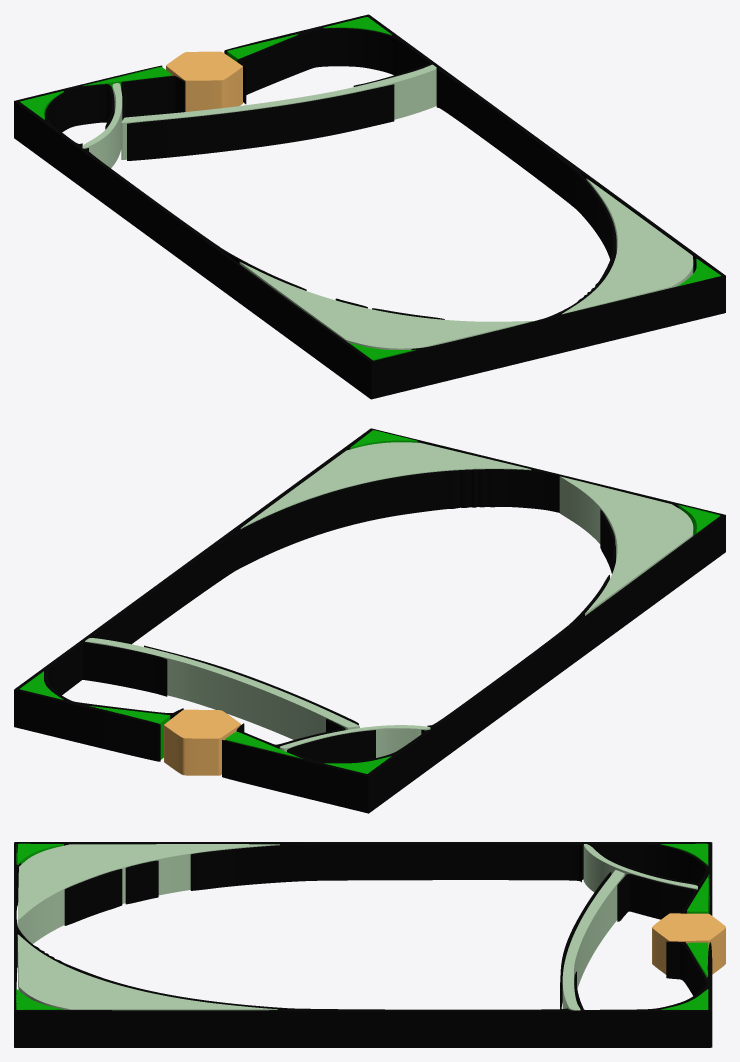
3 views of the same model, one above another, from view 1: azimuth 30°, elevation 25°; view 2: azimuth 150°, elevation 25°; view 3: azimuth 270°, elevation 25° (orthographic). The views are drawn at different scales.
Visible parts, largest first — view 1: imagetostl_mesh8, imagetostl_mesh10, imagetostl_mesh1, imagetostl_mesh3, imagetostl_mesh9, imagetostl_mesh12, imagetostl_mesh4, imagetostl_mesh30, imagetostl_mesh5, imagetostl_mesh31, imagetostl_mesh6; view 2: imagetostl_mesh8, imagetostl_mesh1, imagetostl_mesh3, imagetostl_mesh9, imagetostl_mesh4, imagetostl_mesh30, imagetostl_mesh0, imagetostl_mesh5, imagetostl_mesh31, imagetostl_mesh6; view 3: imagetostl_mesh8, imagetostl_mesh1, imagetostl_mesh3, imagetostl_mesh9, imagetostl_mesh0, imagetostl_mesh12, imagetostl_mesh14, imagetostl_mesh4, imagetostl_mesh5, imagetostl_mesh31, imagetostl_mesh16, imagetostl_mesh30 (+9 smaller).
Part boxes in pixels (x1,y1,x2,y2): imagetostl_mesh8: [14, 27, 725, 399]; imagetostl_mesh10: [127, 84, 394, 160]; imagetostl_mesh1: [240, 262, 531, 348]; imagetostl_mesh3: [562, 179, 693, 313]; imagetostl_mesh9: [14, 14, 725, 362]; imagetostl_mesh12: [121, 77, 185, 120]; imagetostl_mesh4: [121, 68, 436, 159]; imagetostl_mesh30: [166, 66, 242, 111]; imagetostl_mesh5: [121, 64, 436, 122]; imagetostl_mesh31: [166, 51, 242, 80]; imagetostl_mesh6: [82, 87, 122, 167]; imagetostl_mesh8: [14, 433, 725, 813]; imagetostl_mesh1: [560, 476, 693, 613]; imagetostl_mesh3: [241, 442, 530, 527]; imagetostl_mesh9: [14, 428, 725, 776]; imagetostl_mesh4: [85, 641, 359, 739]; imagetostl_mesh30: [164, 724, 240, 775]; imagetostl_mesh0: [559, 476, 693, 615]; imagetostl_mesh5: [85, 638, 359, 727]; imagetostl_mesh31: [164, 709, 240, 738]; imagetostl_mesh6: [279, 727, 430, 757]; imagetostl_mesh8: [14, 843, 712, 1047]; imagetostl_mesh1: [17, 844, 278, 919]; imagetostl_mesh3: [17, 934, 276, 1009]; imagetostl_mesh9: [14, 842, 712, 1011]; imagetostl_mesh0: [17, 844, 279, 943]; imagetostl_mesh12: [617, 875, 697, 921]; imagetostl_mesh14: [64, 869, 122, 925]; imagetostl_mesh4: [562, 874, 624, 1010]; imagetostl_mesh5: [562, 870, 624, 1009]; imagetostl_mesh31: [652, 913, 725, 940]; imagetostl_mesh16: [125, 861, 158, 904]; imagetostl_mesh30: [652, 928, 725, 974].
Size of the model in its own units: 10000 by 1000 by 17765.
